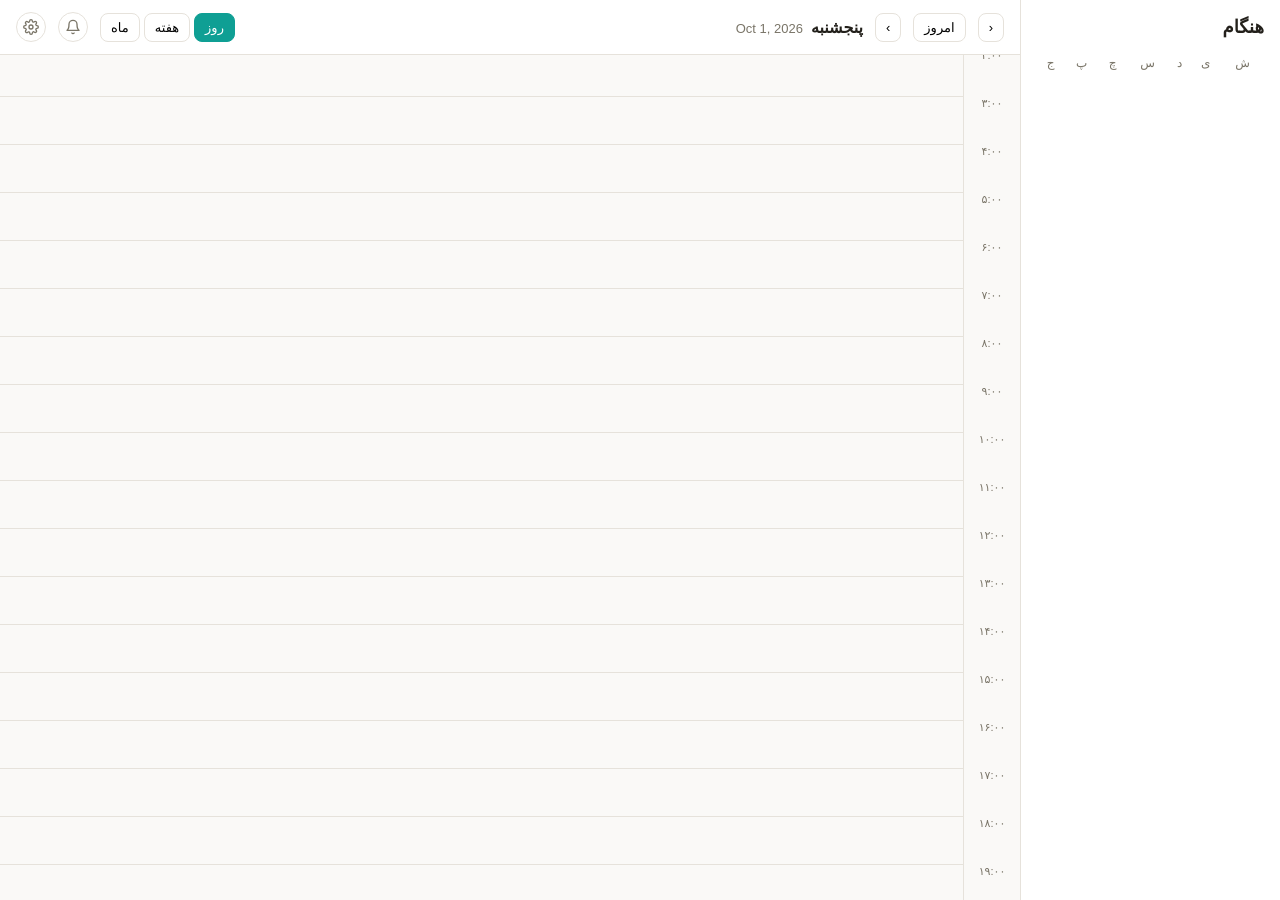
Test: Header › the settings button opens the settings dialog
The image size is (1280, 900).
(page scrolled)
Click the button named "تنظیمات". click: (31, 27)
box: left=16, top=12, right=46, bottom=42
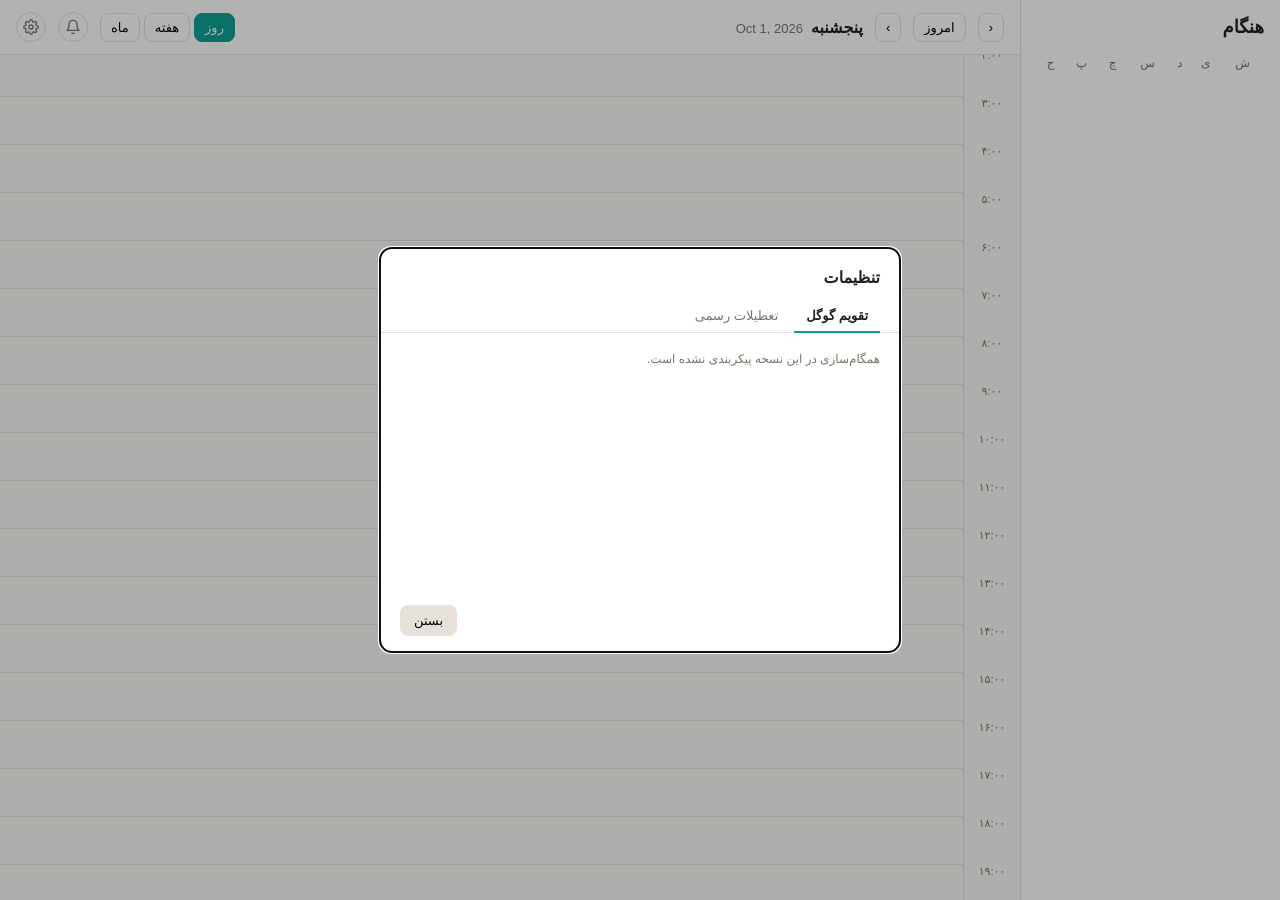
Now the dialog "تنظیمات" is shown, box left=380, top=248, right=900, bottom=652
